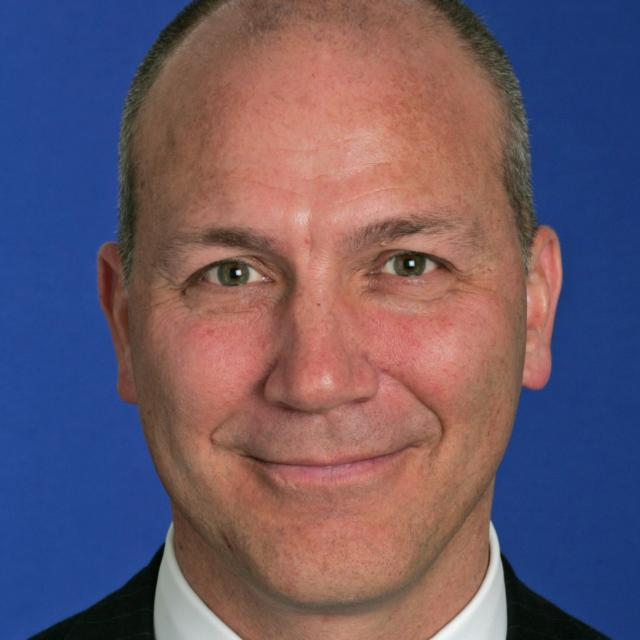Normal: (130, 3, 525, 608)
